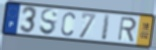3: (19, 6, 38, 36)
7: (80, 12, 98, 40)
C: (60, 11, 76, 37)
I: (101, 13, 112, 42)
R: (117, 16, 138, 43)
S: (38, 8, 59, 37)
